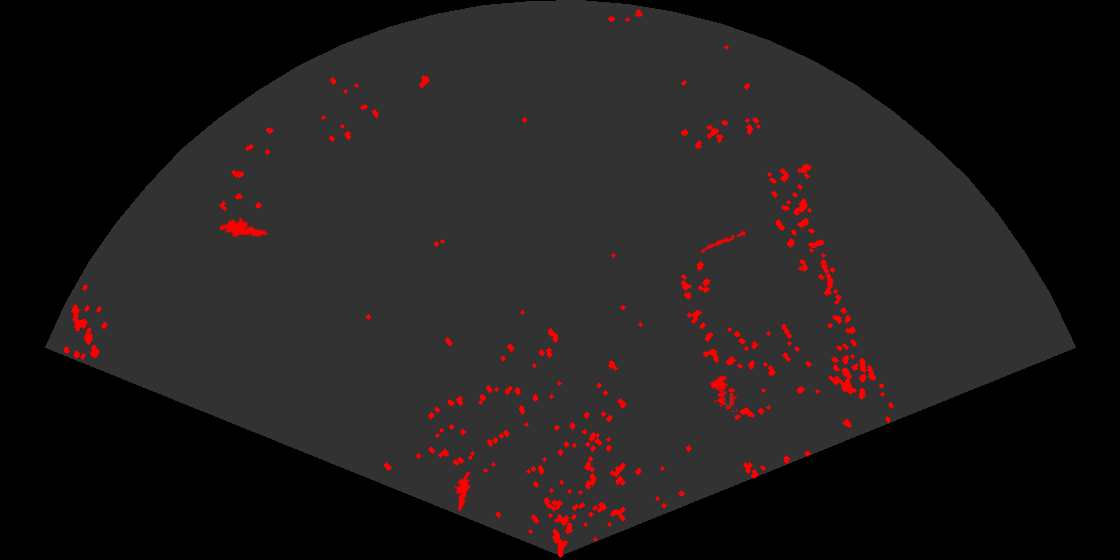cage: (709, 374, 737, 412)
chain: (694, 229, 747, 255)
frogman: (220, 216, 268, 239), (453, 472, 473, 513)
